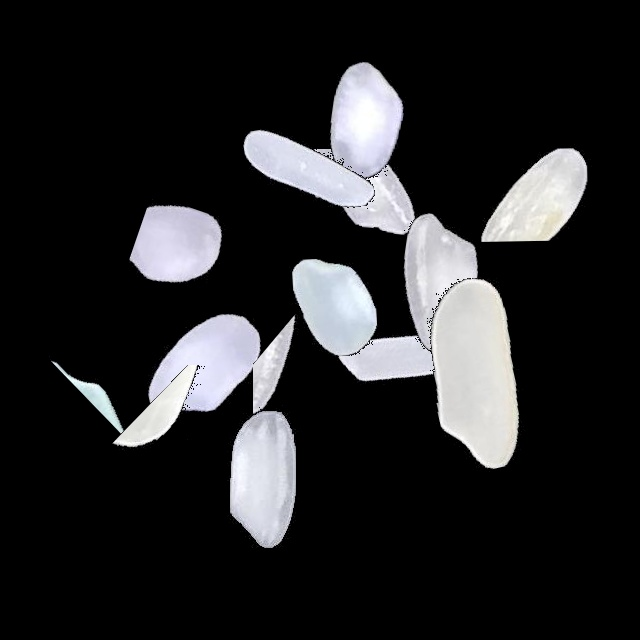Broken: (284, 42, 534, 208), (453, 34, 616, 284), (85, 182, 335, 335), (236, 149, 486, 301), (253, 260, 367, 510), (31, 356, 281, 450), (81, 365, 331, 452), (106, 308, 188, 558)
Full: (79, 238, 329, 488), (288, 225, 538, 475), (317, 158, 567, 408), (136, 353, 386, 603), (211, 180, 461, 430), (182, 44, 432, 294), (348, 249, 598, 499)
